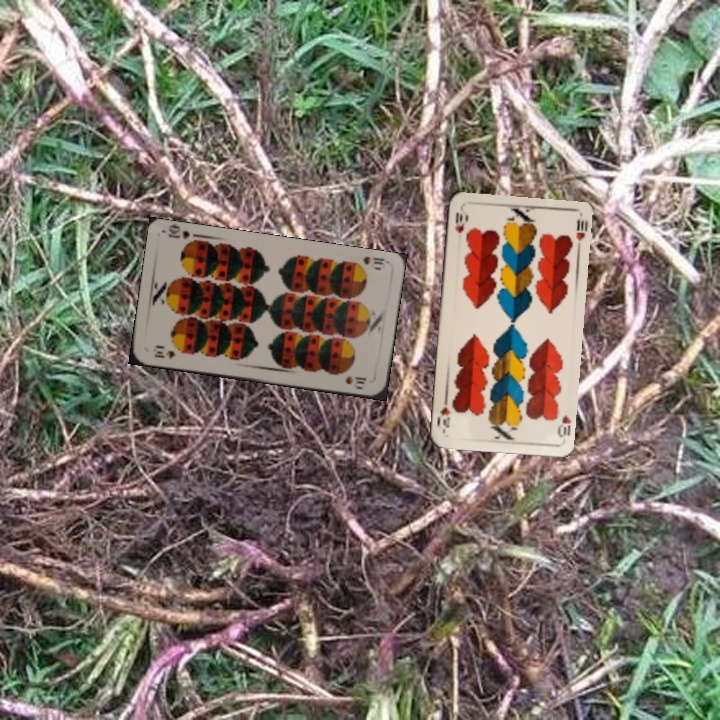H10: (553, 410, 573, 440), (451, 208, 466, 235)
S10: (150, 346, 178, 361), (359, 252, 387, 267)
